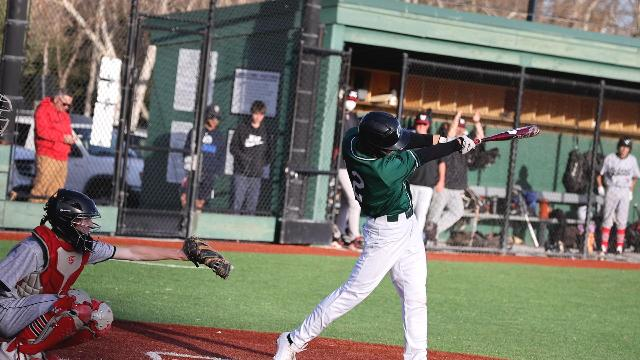baseball bat: (474, 124, 542, 144)
